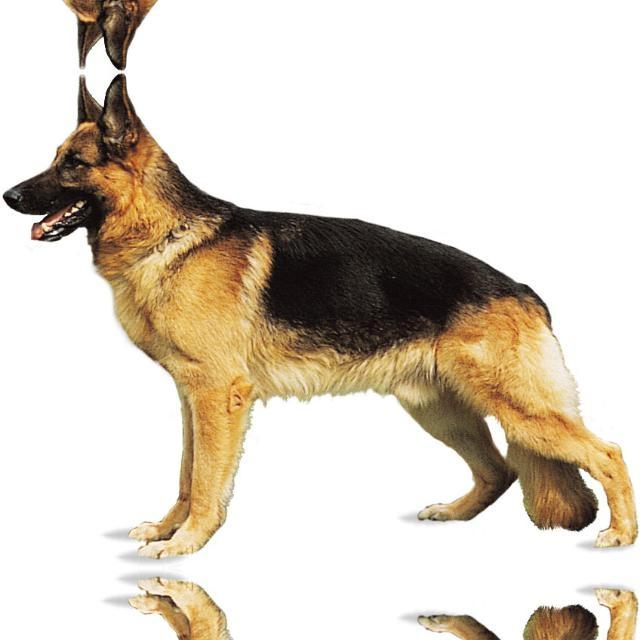dog: (1, 71, 640, 558), (1, 0, 640, 70), (1, 576, 640, 640)
